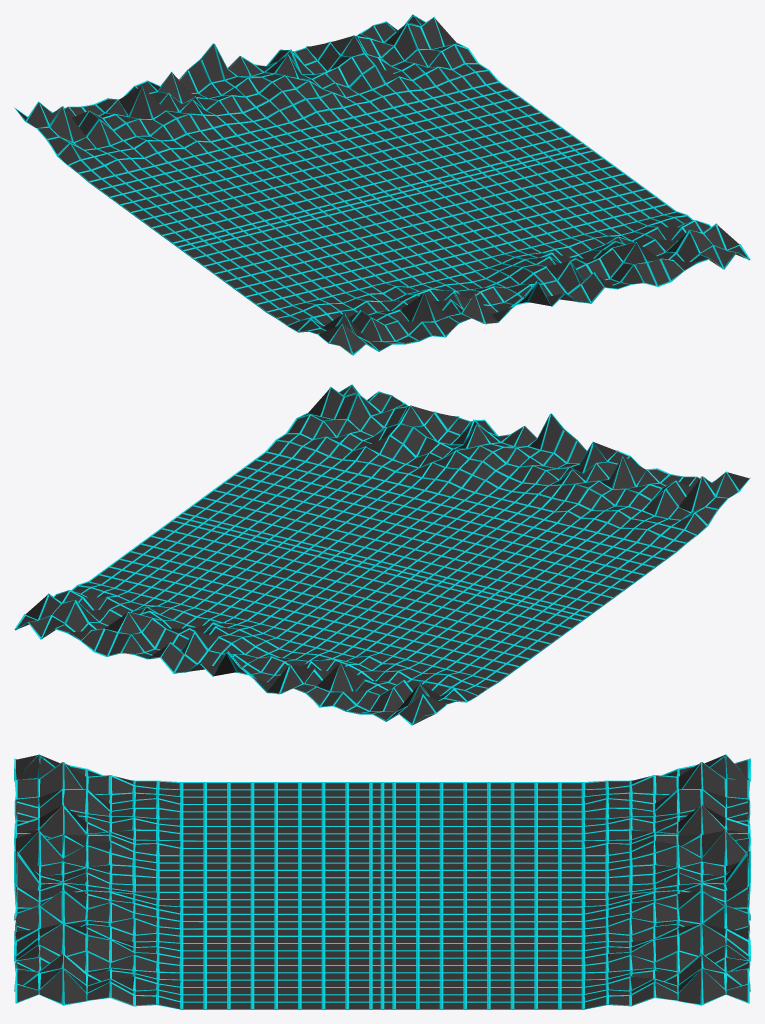
The model's file is trainingRoomField.fbx.
3 renders of one model, top to bottom at view 1: azimuth 30°, elevation 25°; view 2: azimuth 150°, elevation 25°; view 3: azimuth 270°, elevation 25°, orthographic. The views are drawn at different scales.
Visible parts, largest first — view 1: Field; view 2: Field; view 3: Field.
Part boxes in pixels (x1,y1,x2,y2): Field: (14, 14, 750, 355); Field: (14, 384, 750, 725); Field: (14, 754, 750, 1009).
Bounding box in the file's own units: 4223 × 362 × 5769.
